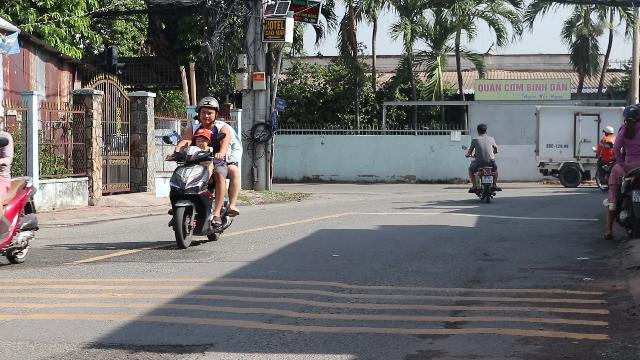helmet: (196, 96, 218, 126), (621, 104, 639, 126)
motorcyclist: (162, 94, 242, 248), (602, 104, 640, 240)
nohelmet: (192, 128, 212, 150)
